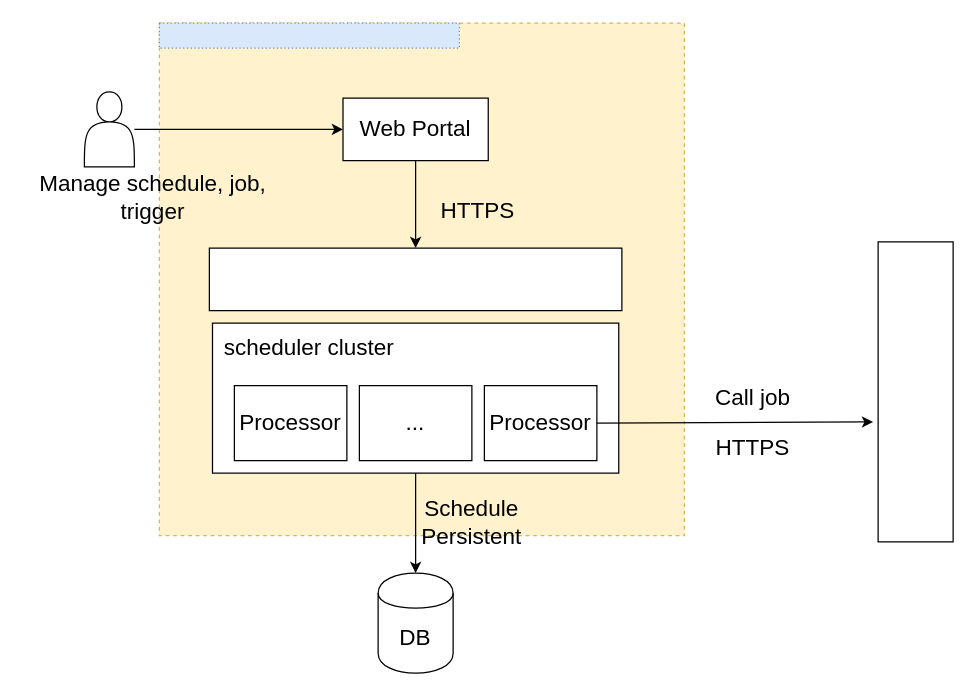
The diagram is 975 pixels wide and 695 high, and some of its shapes have lost their labels. The shapes that lost their labels are listed below. From the top down, each one's centre as x and y in pixels, then its label:
the point at 308,35: Scheduler Job Management
the point at 415,279: Web Api
the point at 915,391: Scheduler Job Webpi
